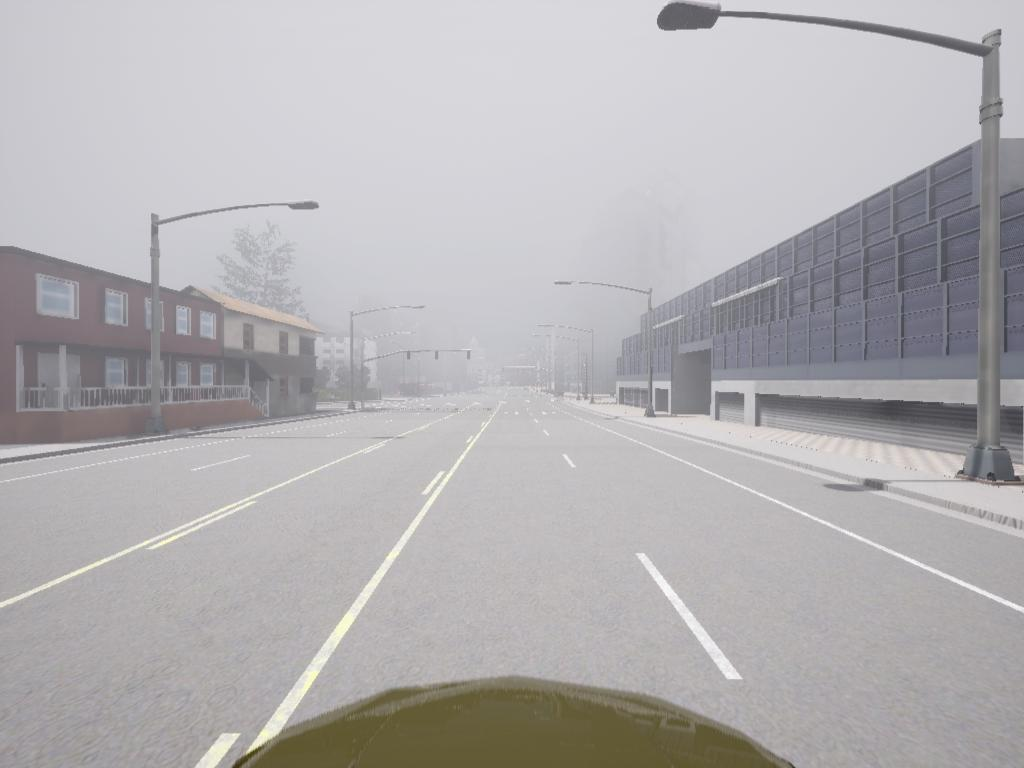traffic_light: (661, 3, 722, 33), (468, 351, 472, 361), (436, 352, 440, 361), (408, 353, 411, 361), (503, 367, 505, 373), (519, 369, 521, 374), (533, 369, 534, 373)
